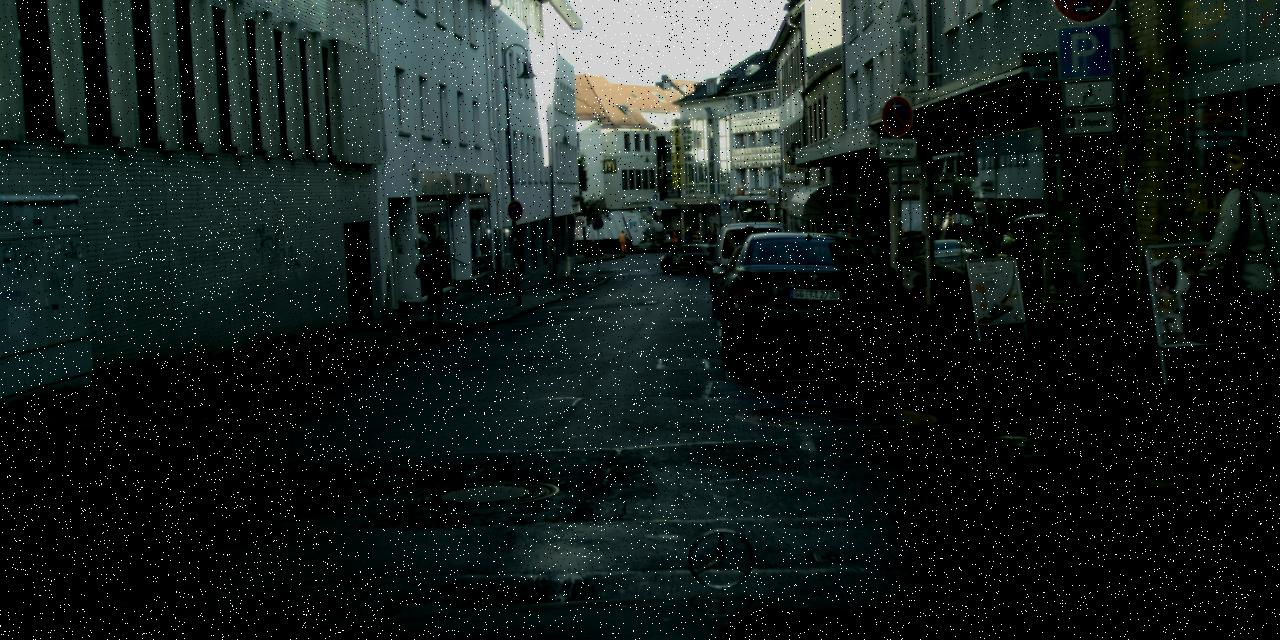ped: (1189, 137, 1279, 461), (416, 237, 451, 322), (618, 230, 628, 252), (686, 228, 693, 247), (670, 228, 676, 245)
